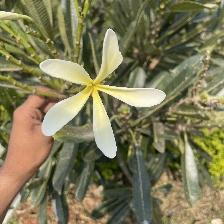champaka: (37, 25, 167, 163)
